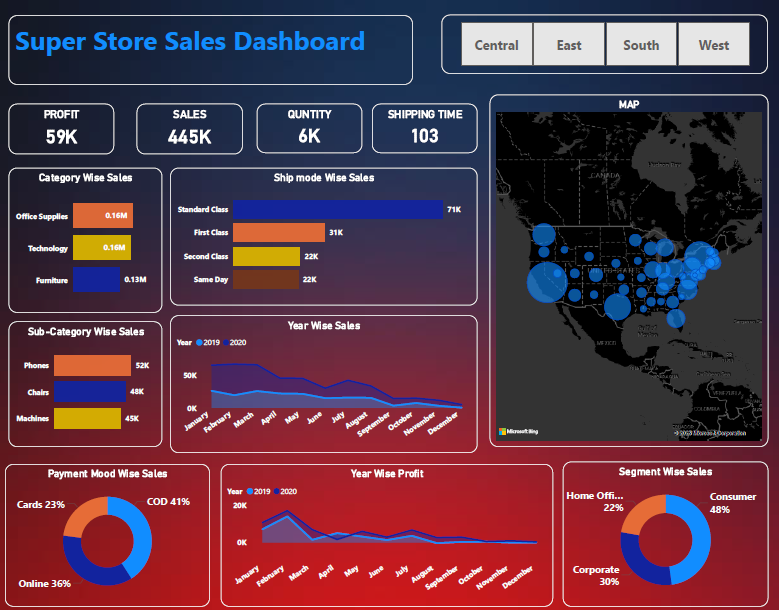

This screenshot's page, from the dashboard's own definition file:
{"tool":"powerbi","page":{"name":"Page 1","canvas":[1280,1000],"ordinal":0},"visuals":[{"type":"barChart","title":"Category Wise Sales","fields":{"Category":["SuperStore_Sales_Dataset.Category"],"Y":["Sum(SuperStore_Sales_Dataset.Sales)"]},"box":[17.7,273.6,252,238.2],"z":0},{"type":"barChart","title":"Sub-Category Wise Sales","fields":{"Category":["SuperStore_Sales_Dataset.Sub-Category"],"Y":["Sum(SuperStore_Sales_Dataset.Sales)"]},"box":[17.7,525.6,252,206.7],"z":1000},{"type":"barChart","title":"Ship mode Wise Sales","fields":{"Category":["SuperStore_Sales_Dataset.Ship Mode"],"Y":["Sum(SuperStore_Sales_Dataset.Sales)"]},"box":[283.5,273.6,503.9,226.4],"z":2000},{"type":"stackedAreaChart","title":"Year Wise Sales","fields":{"Y":["Sum(SuperStore_Sales_Dataset.Sales)"],"Category":["SuperStore_Sales_Dataset.Order Date.Variation.Date Hierarchy.Month"],"Series":["SuperStore_Sales_Dataset.Order Date.Variation.Date Hierarchy.Year"]},"box":[283.5,515.7,503.9,226.4],"z":3000},{"type":"stackedAreaChart","title":"Year Wise Profit","fields":{"Category":["SuperStore_Sales_Dataset.Order Date.Variation.Date Hierarchy.Month"],"Series":["SuperStore_Sales_Dataset.Order Date.Variation.Date Hierarchy.Year"],"Y":["Sum(SuperStore_Sales_Dataset.Profit)"]},"box":[366.1,759.8,545.3,234.3],"z":4000},{"type":"map","title":"MAP","fields":{"Category":["SuperStore_Sales_Dataset.State"],"Size":["Sum(SuperStore_Sales_Dataset.Sales)"]},"box":[807.1,153.5,456.7,578.7],"z":5000},{"type":"donutChart","title":"Segment Wise Sales","fields":{"Category":["SuperStore_Sales_Dataset.Segment"],"Y":["Sum(SuperStore_Sales_Dataset.Sales)"]},"box":[927.2,755.9,336.6,238.2],"z":6000},{"type":"donutChart","title":"Payment Mood Wise Sales","fields":{"Category":["SuperStore_Sales_Dataset.Payment Mode"],"Y":["Sum(SuperStore_Sales_Dataset.Sales)"]},"box":[11.8,759.8,336.6,234.3],"z":7000},{"type":"slicer","fields":{"Values":["SuperStore_Sales_Dataset.Region"]},"box":[728.1,23,535,97.4],"z":8000},{"type":"textbox","box":[17.7,23.6,663.4,114.2],"z":9000},{"type":"card","title":"SALES","fields":{"Values":["Sum(SuperStore_Sales_Dataset.Sales)"]},"box":[228.3,169.3,173.2,82.7],"z":10000},{"type":"card","title":"PROFIT","fields":{"Values":["Sum(SuperStore_Sales_Dataset.Profit)"]},"box":[17.7,169.3,173.2,82.7],"z":11000},{"type":"card","title":"QUNTITY","fields":{"Values":["Sum(SuperStore_Sales_Dataset.Quantity)"]},"box":[425.2,169.3,173.2,80.7],"z":12000},{"type":"card","title":"SHIPPING TIME","fields":{"Values":["Avg(SuperStore_Sales_Dataset.AverageDeliveryDate)"]},"box":[614.2,169.3,173.2,80.7],"z":13000}]}

Visuals, with their boxes in screenshot pixels (x1, y1, x2, y2), scaled from the page's 1280x1000 canvas onto the 779x610 screenshot:
"Category Wise Sales" barChart: 11, 167, 164, 312
"Sub-Category Wise Sales" barChart: 11, 321, 164, 447
"Ship mode Wise Sales" barChart: 173, 167, 479, 305
"Year Wise Sales" stackedAreaChart: 173, 315, 479, 453
"Year Wise Profit" stackedAreaChart: 223, 463, 555, 606
"MAP" map: 491, 94, 769, 447
"Segment Wise Sales" donutChart: 564, 461, 769, 606
"Payment Mood Wise Sales" donutChart: 7, 463, 212, 606
slicer - SuperStore_Sales_Dataset.Region: 443, 14, 769, 73
textbox: 11, 14, 415, 84
"SALES" card: 139, 103, 244, 154
"PROFIT" card: 11, 103, 116, 154
"QUNTITY" card: 259, 103, 364, 152
"SHIPPING TIME" card: 374, 103, 479, 152
